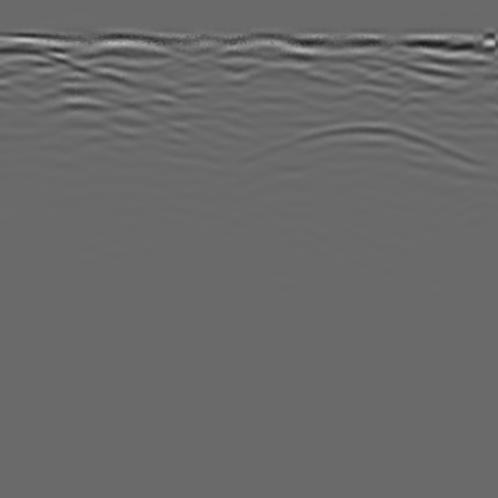hyperbola: (230, 104, 498, 230)
